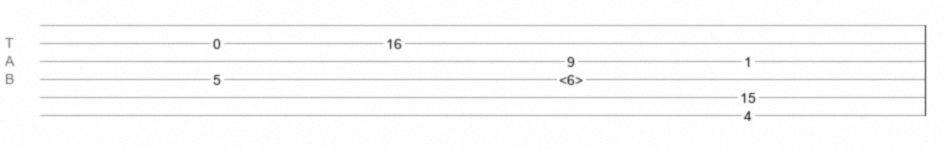0: (213, 36, 221, 46)
1: (744, 54, 752, 64)
15: (740, 90, 756, 100)
16: (386, 36, 402, 46)
4: (744, 108, 752, 118)
5: (213, 72, 221, 82)
9: (567, 54, 575, 64)
harmonic: (559, 72, 583, 82)
